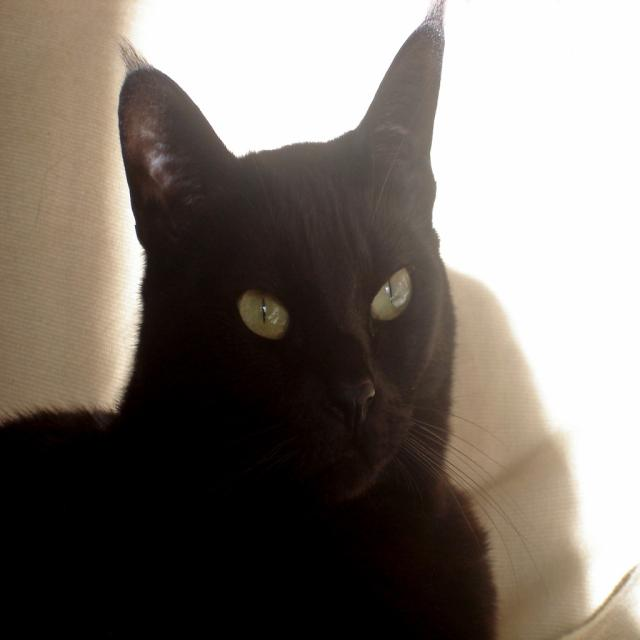Cat: (0, 0, 534, 638)
